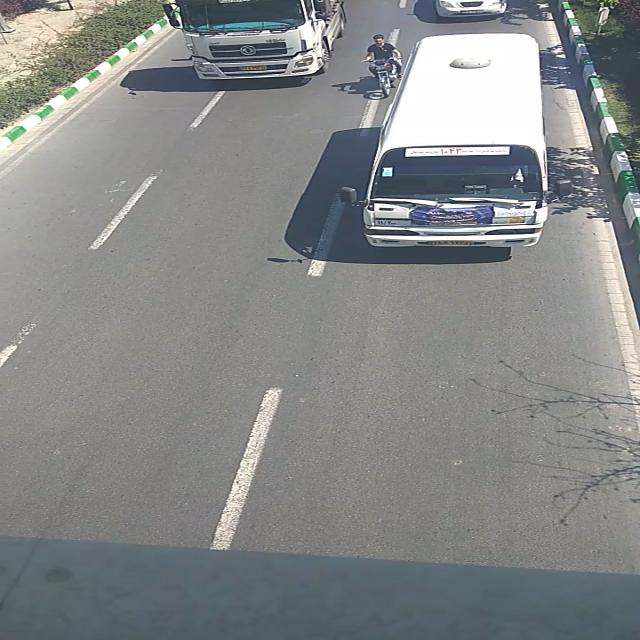bus: (362, 34, 548, 254)
car: (431, 0, 508, 16)
motor: (364, 30, 404, 98)
truck: (161, 0, 348, 80)
